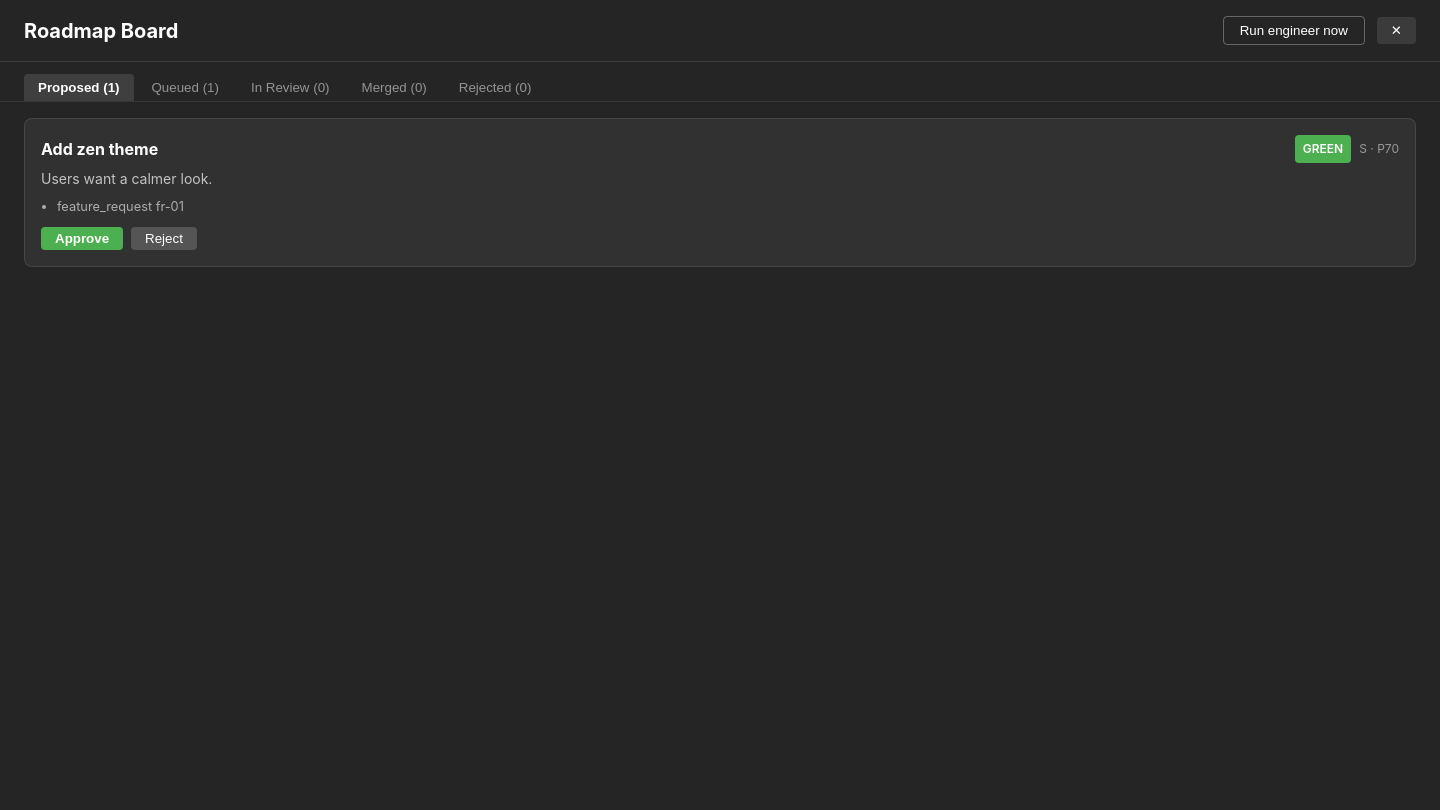
Test: RoadmapBoard — filter tabs › switching tab filters the item list
Expected: the text "Add zen theme" is shown, [41,139,158,159]
# Click Queued tab
Click the button with test id "tab-queued".
click(185, 88)  # box [138,74,233,101]
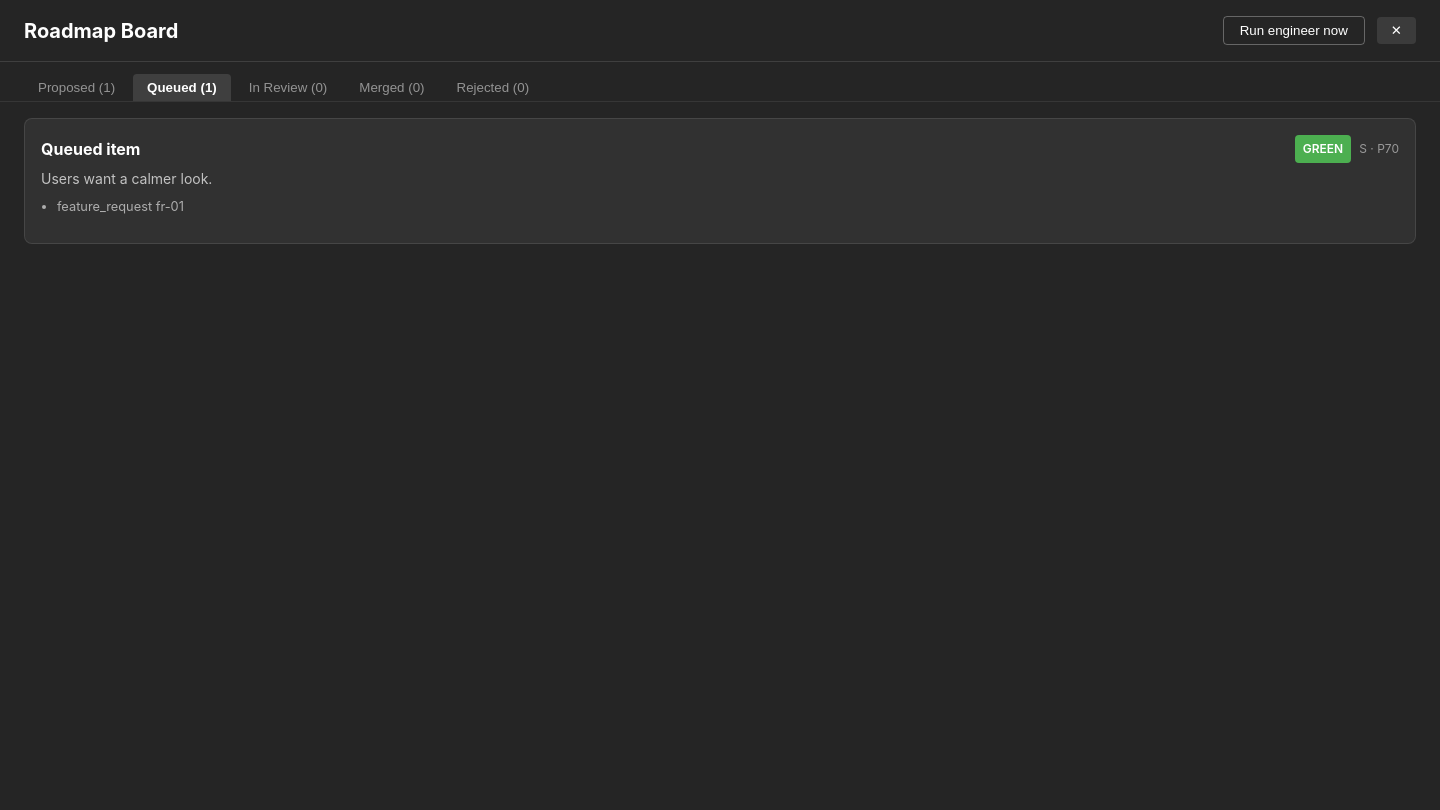
Now the text "Add zen theme" is gone
Now the text "Queued item" is shown, box [41,139,140,159]
